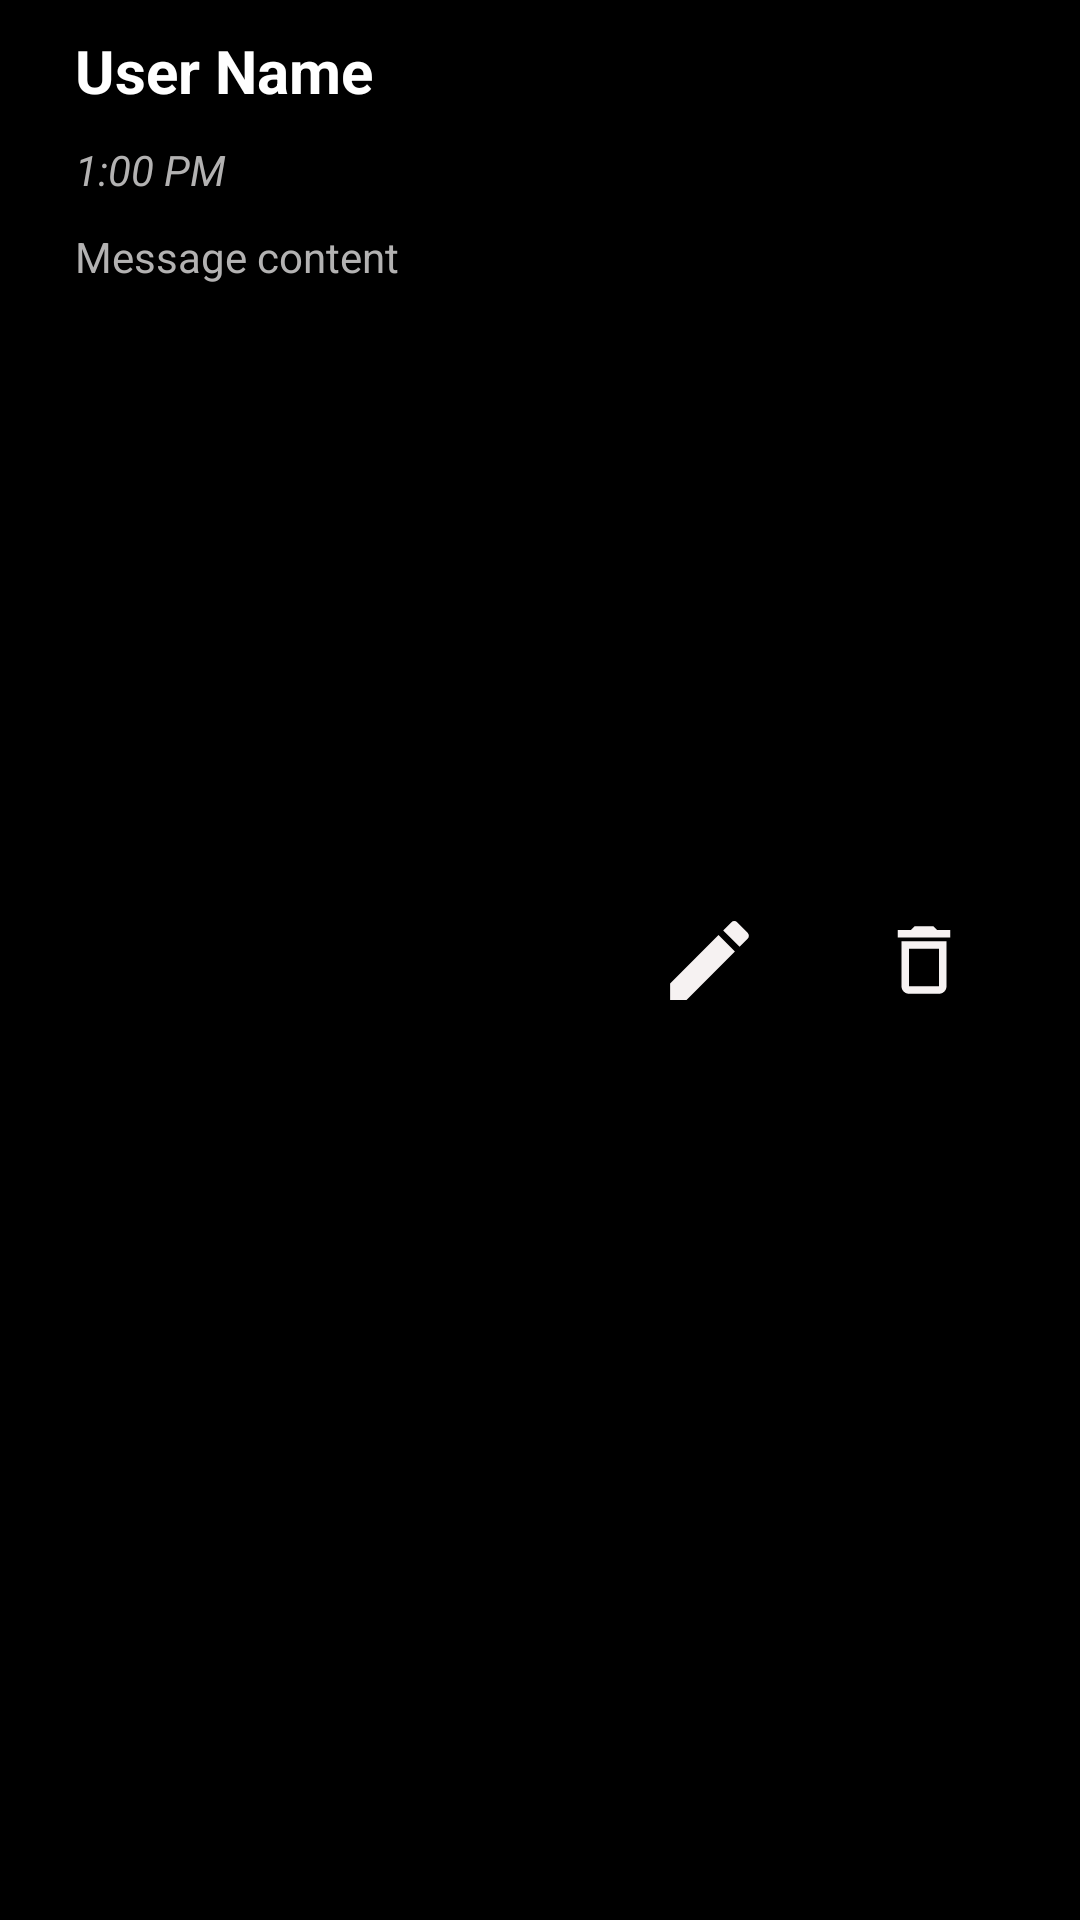

Where to tap for icons on this 1080px×1920px app screen, as (x,y):
delete: (924,960)
edit: (709,960)
